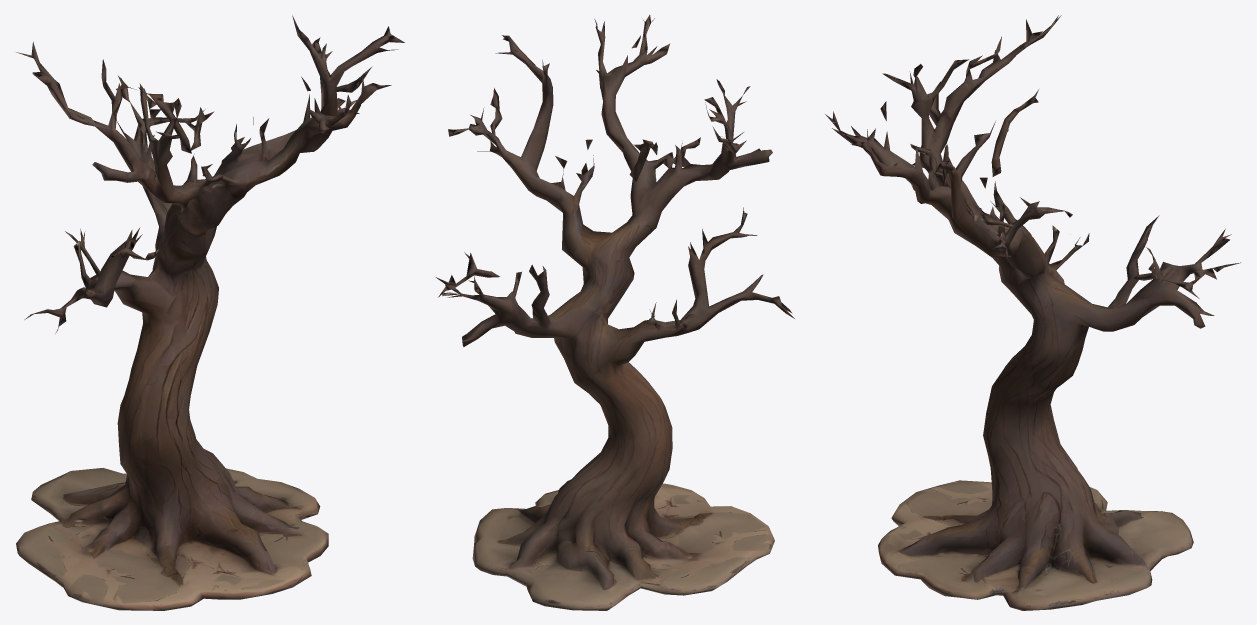
File: env_deadtree.glb
The picture shows the model from 3 angles, left to right: view 1: azimuth 30°, elevation 25°; view 2: azimuth 150°, elevation 25°; view 3: azimuth 270°, elevation 25°; orthographic projection. The views are drawn at different scales.
Size of the model in its own units: 1.43 by 1.97 by 1.57.
Materials: 1 (1 with a texture image).
